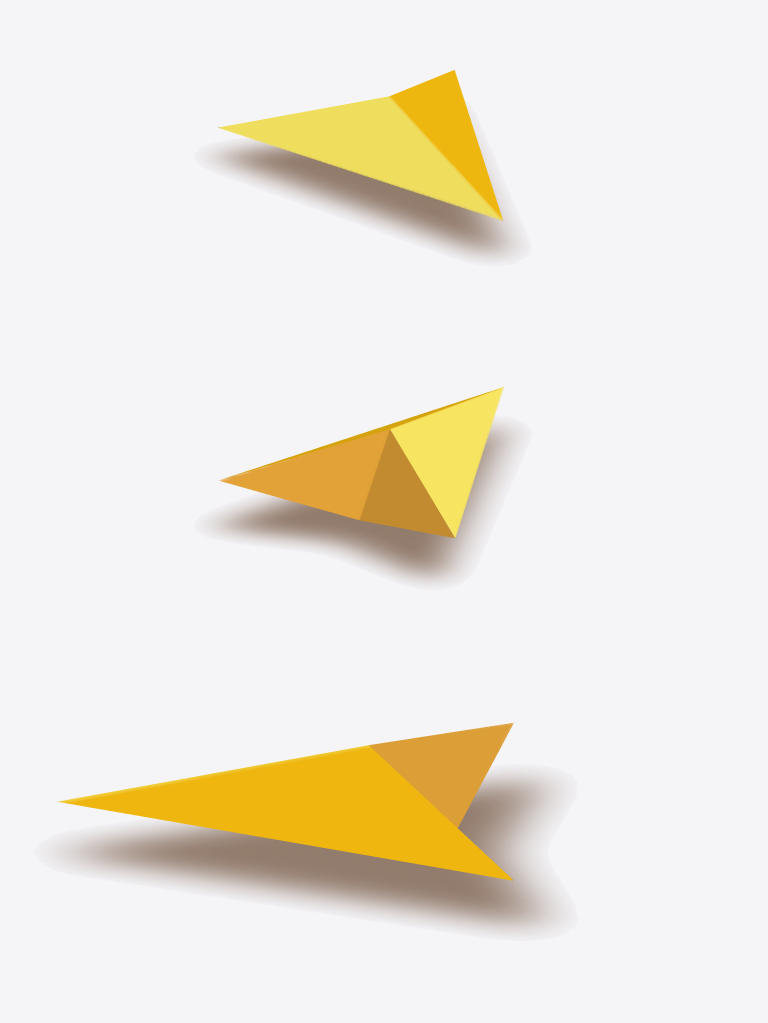
Rendered from scooters_nav_arrow_model.glb.
The picture shows the model from 3 angles, top to bottom: view 1: azimuth 30°, elevation 25°; view 2: azimuth 150°, elevation 25°; view 3: azimuth 270°, elevation 25°; orthographic projection. The views are drawn at different scales.
Visible parts, largest first — view 1: Node; view 2: Node; view 3: Node.
Boxes of the visible parts, box(x1,y1,x2,y2) form: Node: box(218, 70, 510, 254); Node: box(219, 387, 510, 579); Node: box(58, 722, 549, 927).
Size of the model in its own units: 4 by 0.6384 by 4.
Materials: 1 (1 with a texture image).
